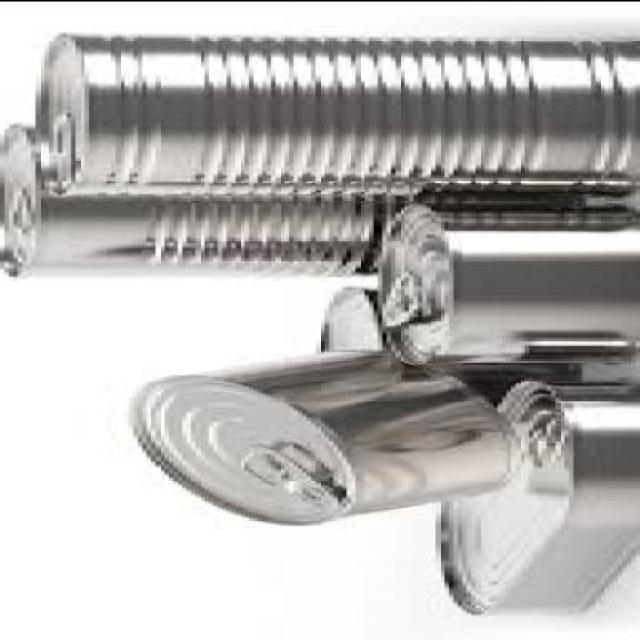METAL: (40, 33, 635, 195), (0, 120, 591, 272), (120, 346, 529, 523), (431, 374, 635, 614), (311, 282, 635, 429), (369, 200, 636, 362)
